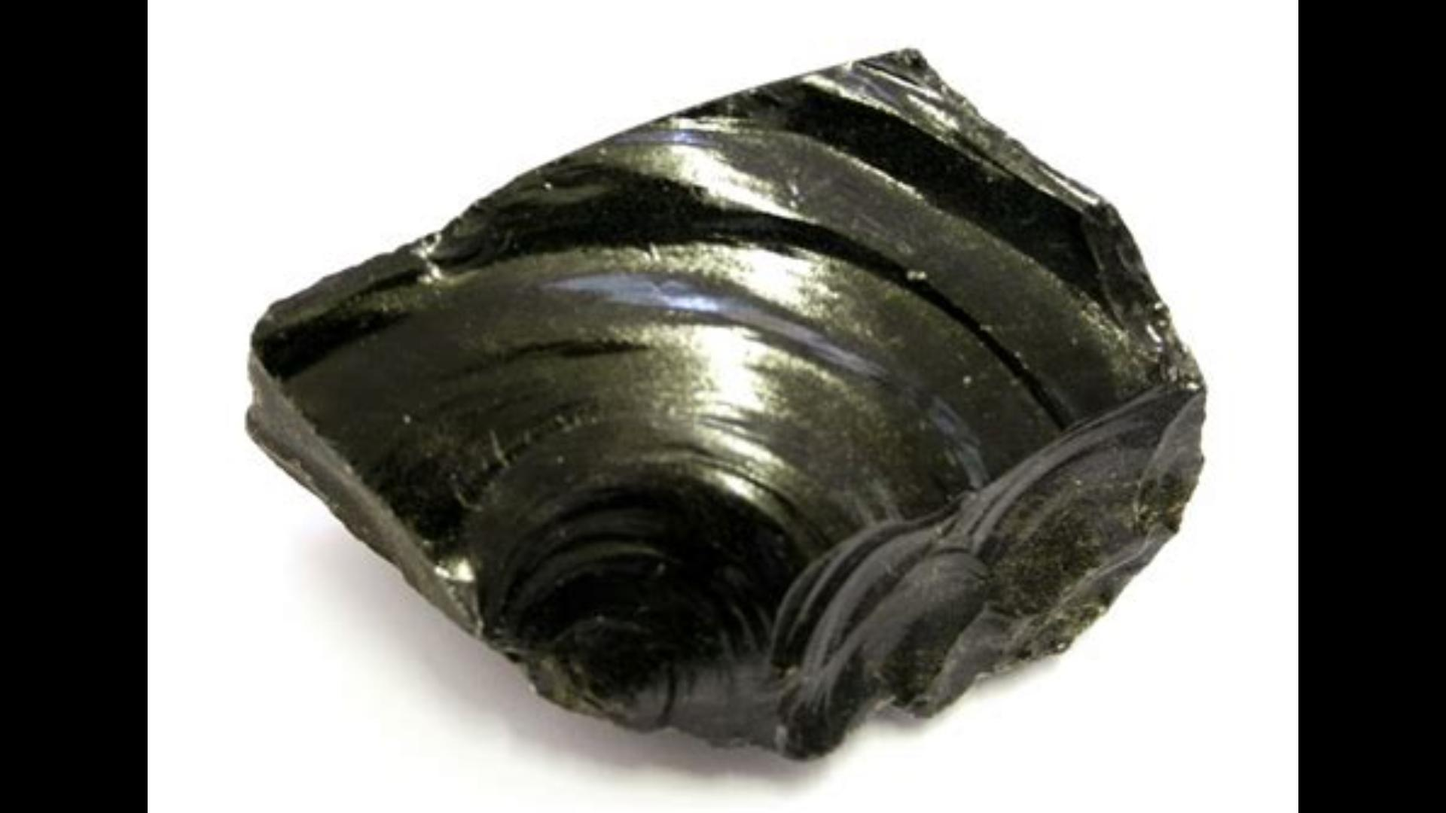rock: (247, 53, 1201, 755)
